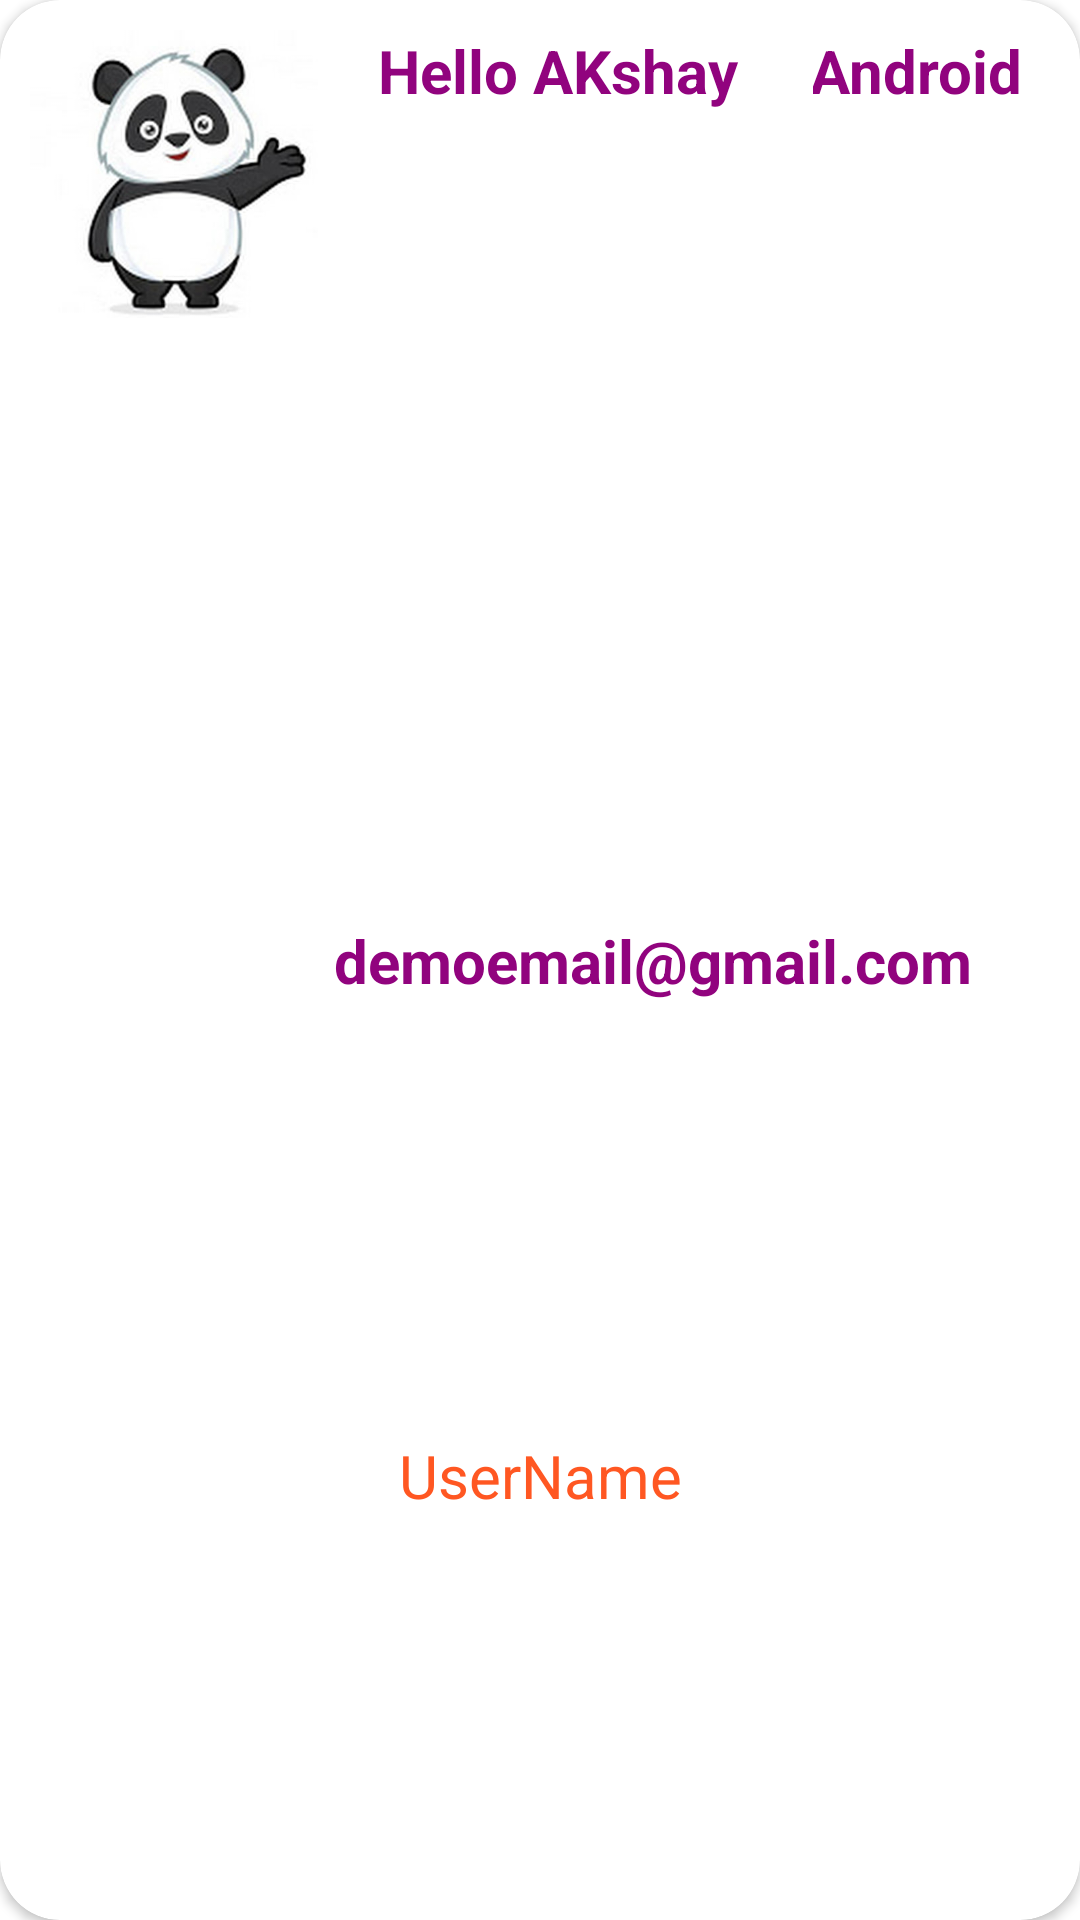

Icons on this 1080px x 1920px Android screen, each with its box as bbox=(x1, y1, x2, y2):
panda: bbox=(87, 48, 306, 314)
